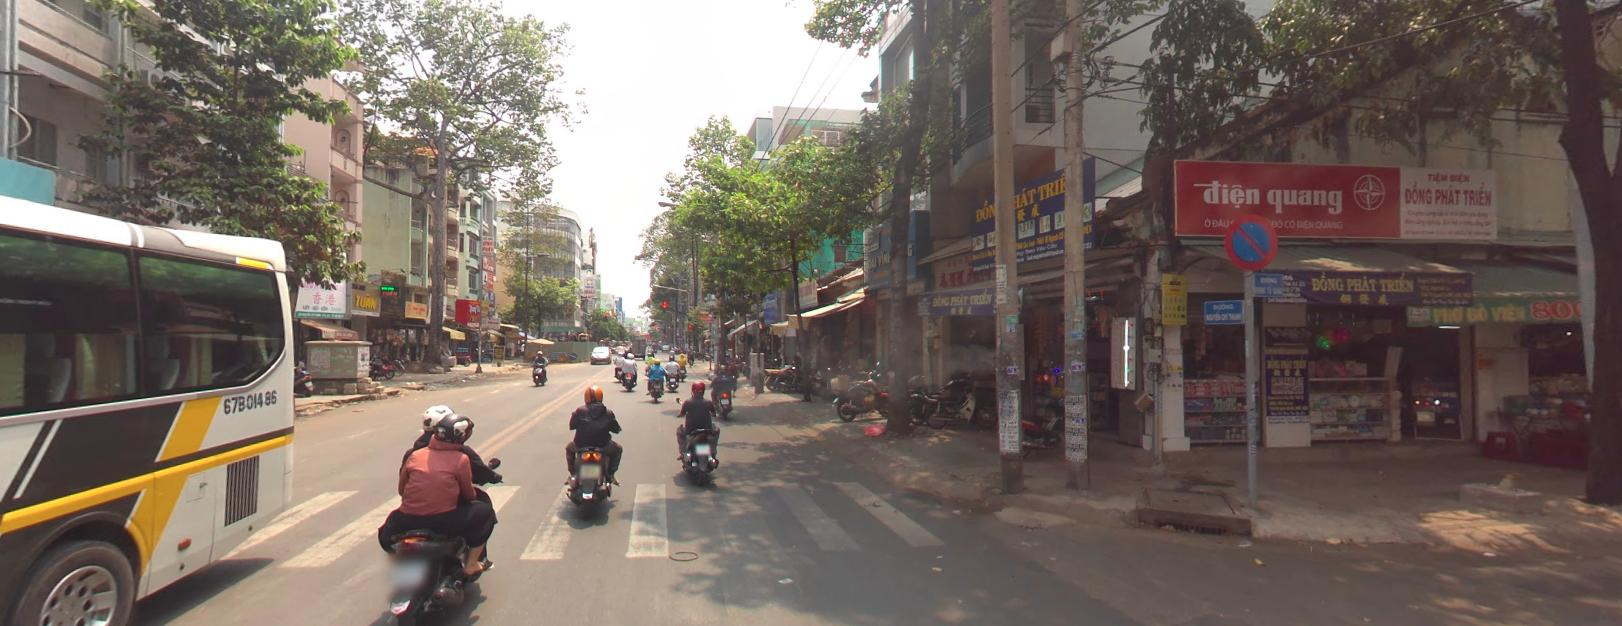Cam dung va do: (1222, 209, 1281, 267)
Hieu lenh: (568, 351, 576, 358)
